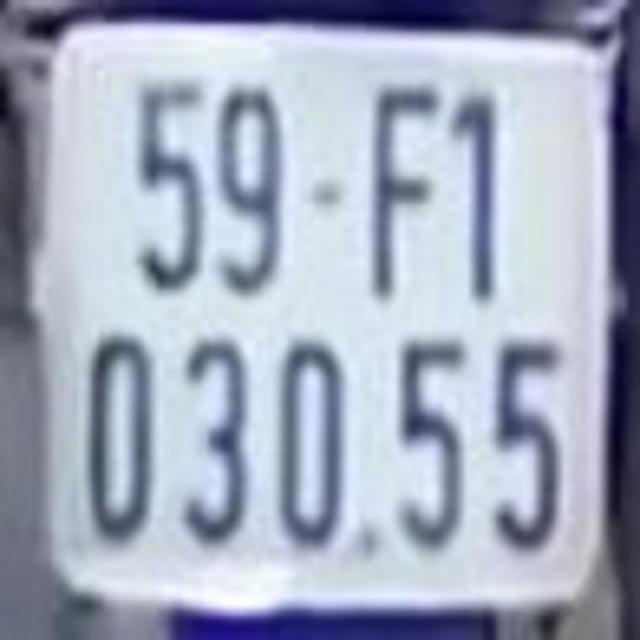0: (283, 342, 343, 548), (90, 340, 152, 532)
1: (455, 96, 507, 301)
3: (186, 342, 248, 548)
5: (492, 338, 560, 552), (397, 338, 464, 549), (139, 84, 205, 287)
9: (212, 87, 286, 291)
F: (367, 87, 445, 299)
